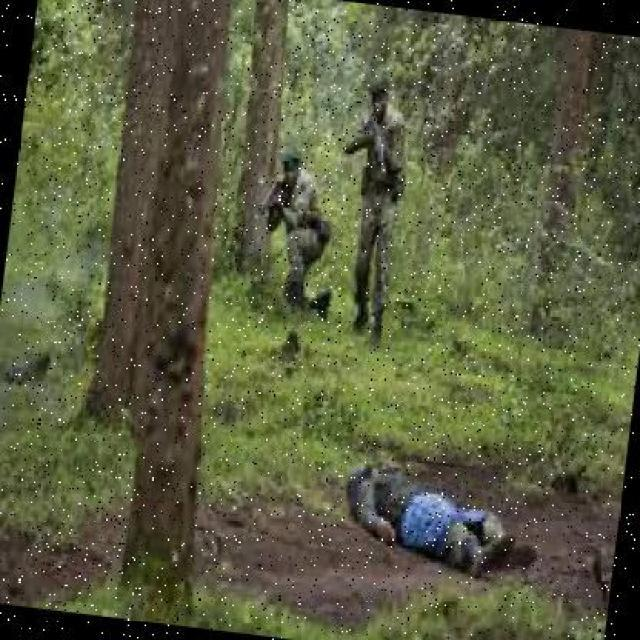poacher: (350, 448, 532, 580), (336, 86, 422, 339), (246, 152, 334, 311)
